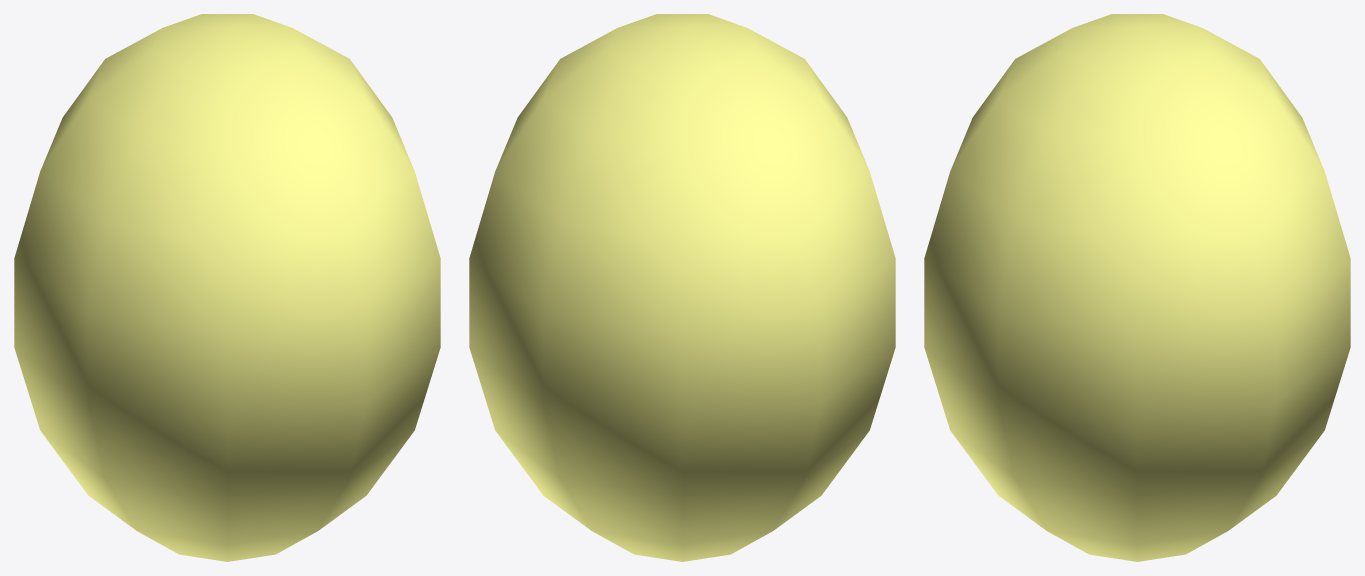
Rendered from solarpup_stage1.obj.
3 renders of one model, left to right at view 1: azimuth 30°, elevation 25°; view 2: azimuth 150°, elevation 25°; view 3: azimuth 270°, elevation 25°, orthographic.
Size of the model in its own units: 1.24 by 1.69 by 1.26.
